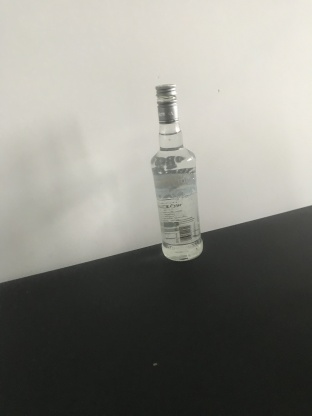nakretka: (154, 82, 180, 125)
